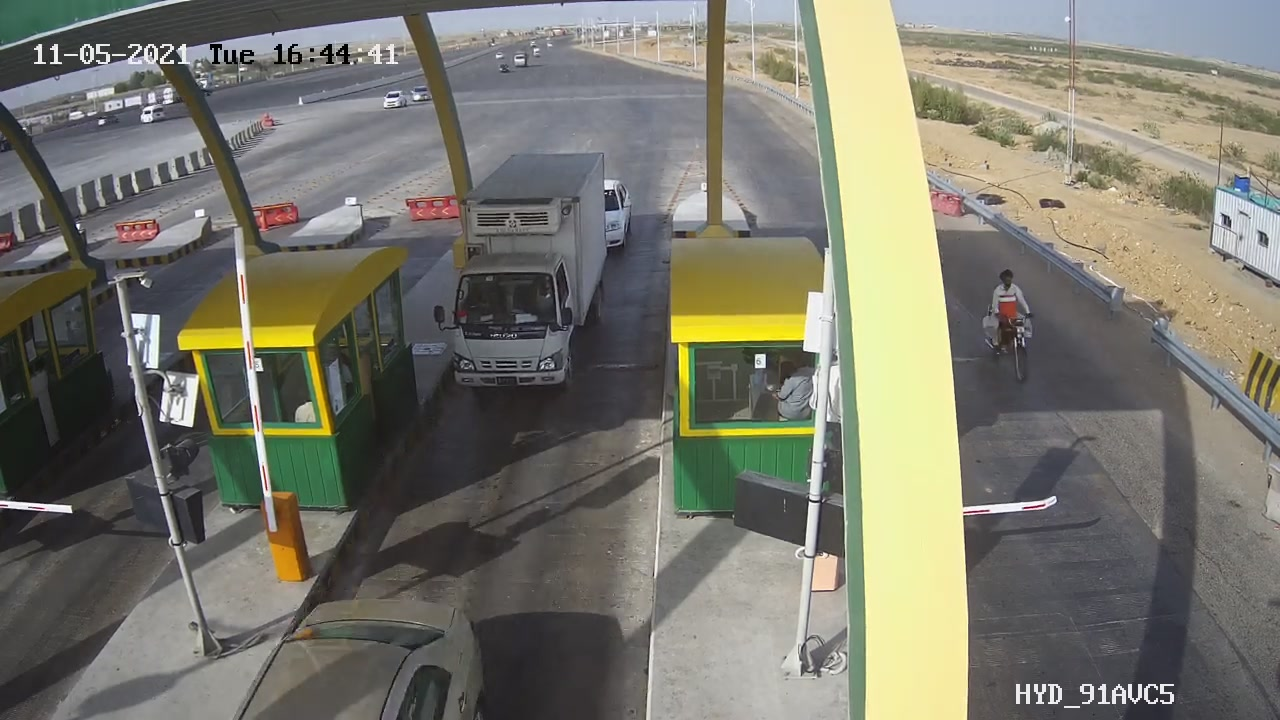F5: (422, 138, 620, 408)
